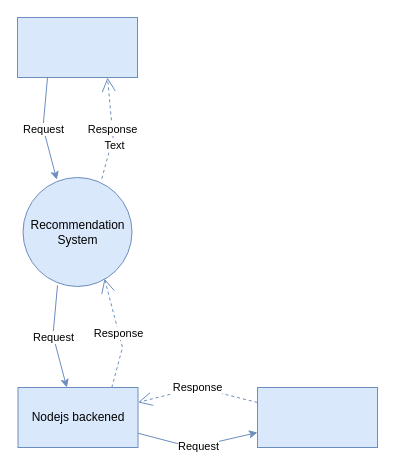
Image size: 395x473. Some labels were removed from this diagram. The box of each missing label's shape, as (x1, y1, x2, y2) in pixels:
Client/Student: (16, 16, 138, 78)
Model: (256, 386, 378, 448)
